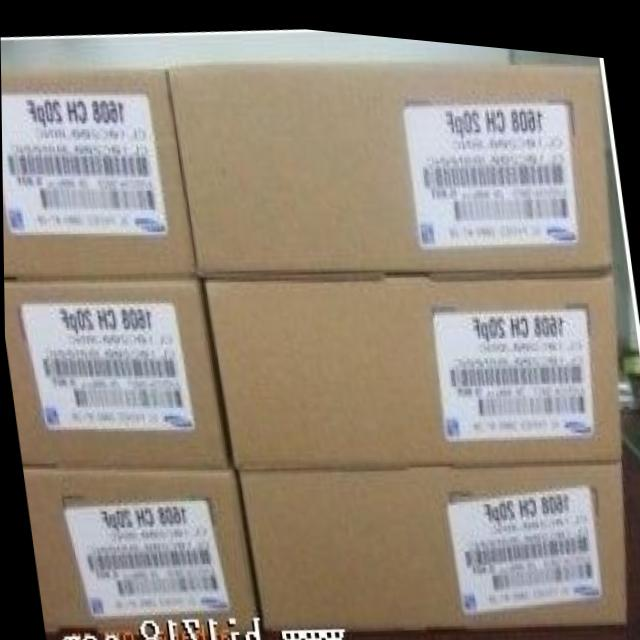box: (167, 53, 614, 275), (202, 262, 620, 462), (235, 451, 623, 628), (3, 275, 229, 466), (1, 62, 195, 277), (23, 466, 257, 631)
